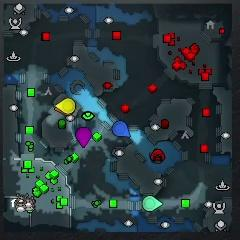p1: (112, 121, 131, 137)
p2: (143, 195, 162, 211)
p3: (75, 128, 91, 148)
p4: (55, 98, 76, 114)
p5: (54, 107, 64, 114)
